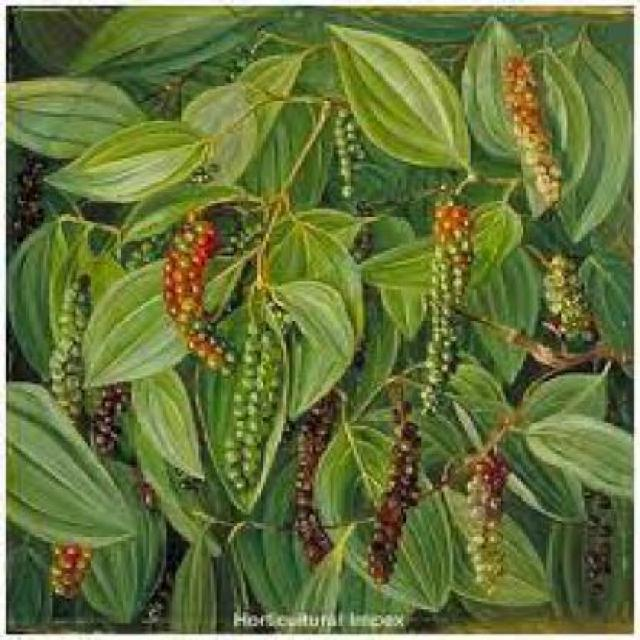RIPE: (494, 51, 558, 198), (159, 223, 223, 359), (425, 198, 477, 274), (465, 442, 503, 540), (46, 548, 88, 609)
UNRIPE: (226, 303, 285, 509), (43, 276, 88, 427), (425, 286, 462, 409), (331, 97, 368, 178)
